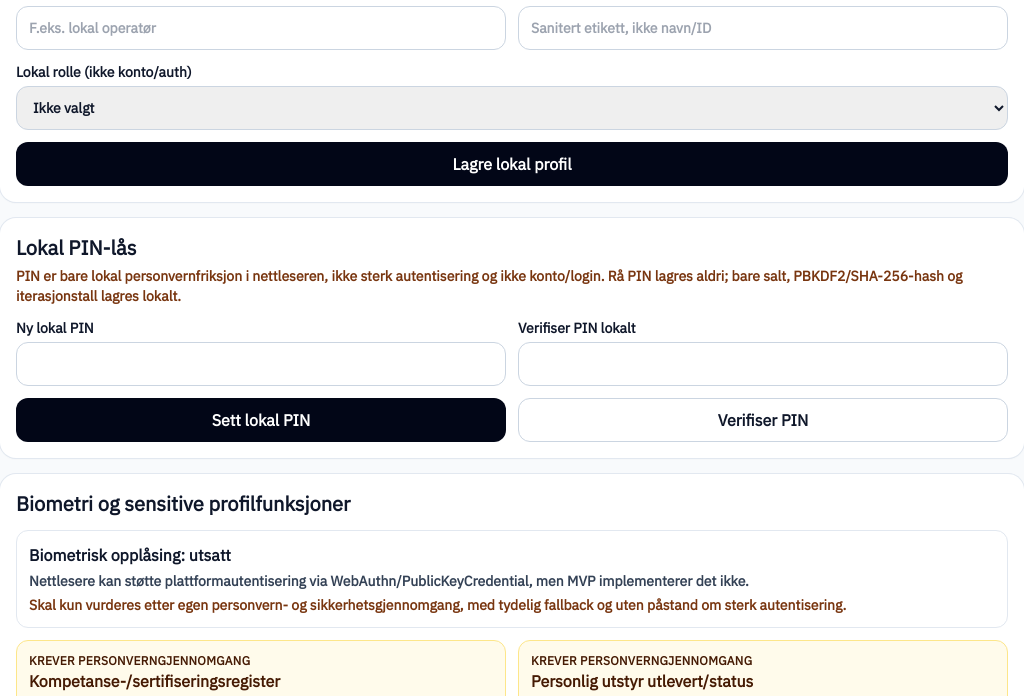
sets and verifies local PIN without storing raw PIN
This screenshot has width=1024, height=696.
(page scrolled)
In the password field labelled "Ny lokal PIN": {"x": 261, "y": 364} [16,342,506,386], type "1234"
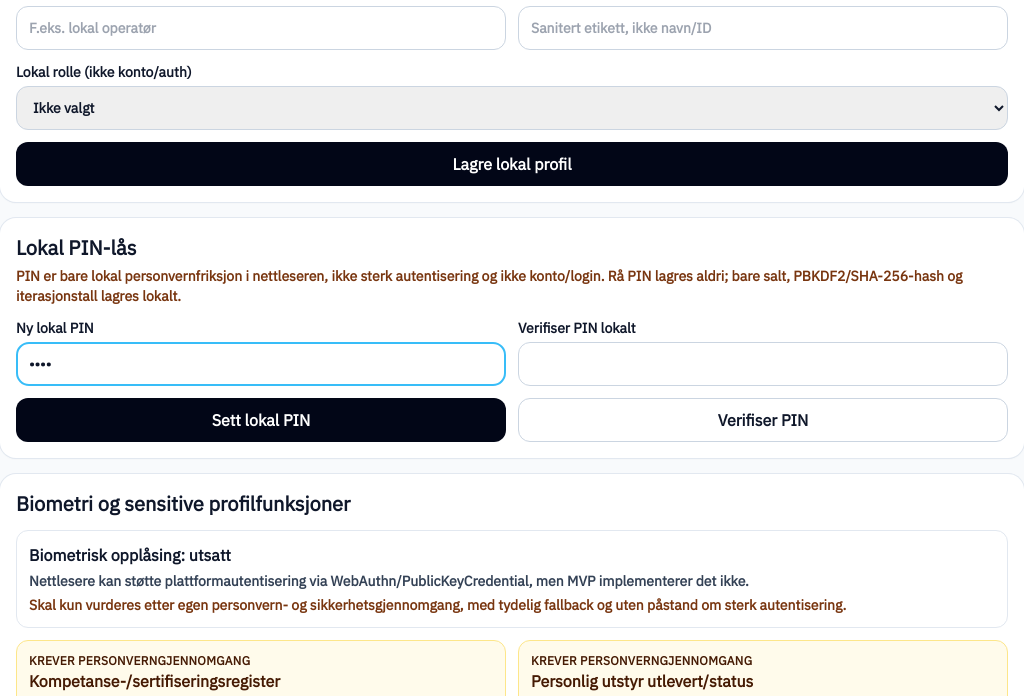
Click the button "Sett lokal PIN": {"x": 261, "y": 420} [16,398,506,442]
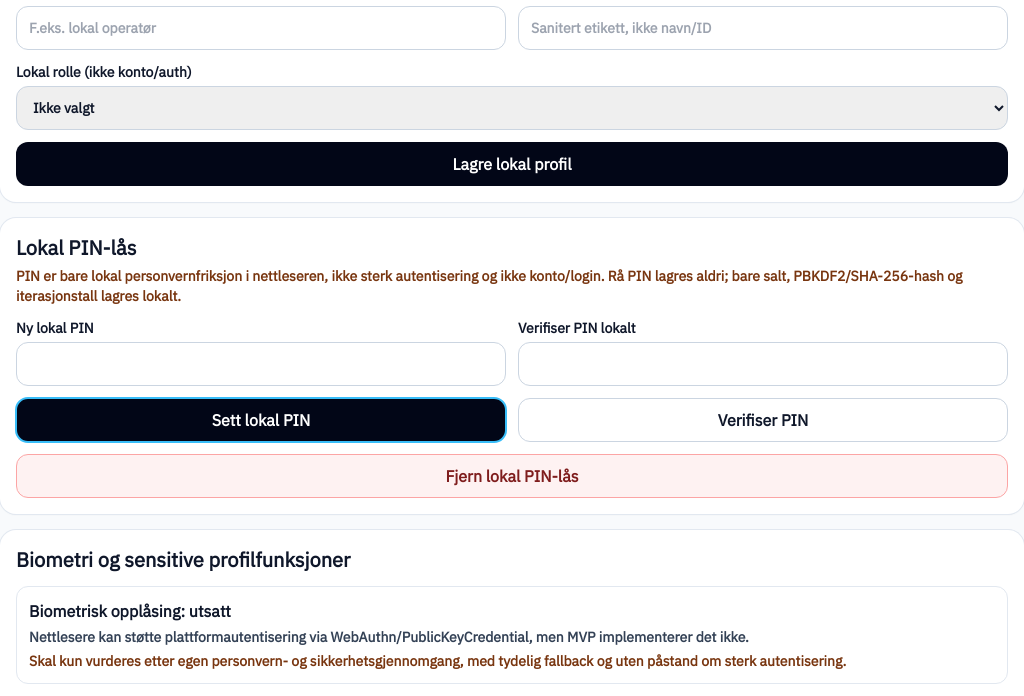
In the password field labelled "Verifiser PIN lokalt": {"x": 763, "y": 364} [518,342,1008,386], type "1234"
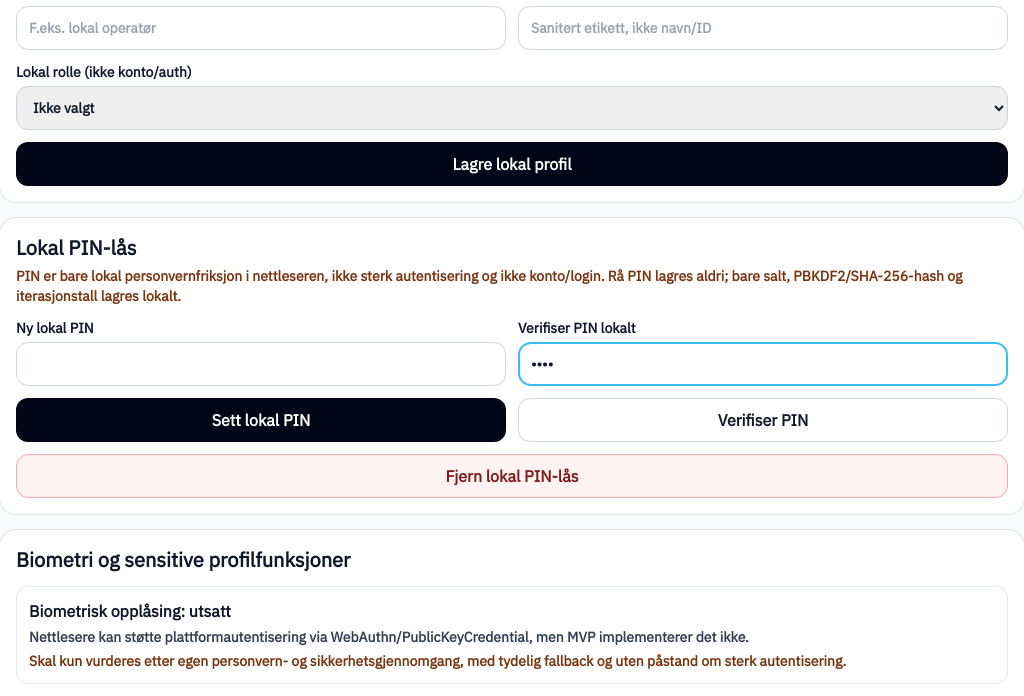
Click the button "Verifiser PIN": {"x": 763, "y": 420} [518,398,1008,442]
(page scrolled)
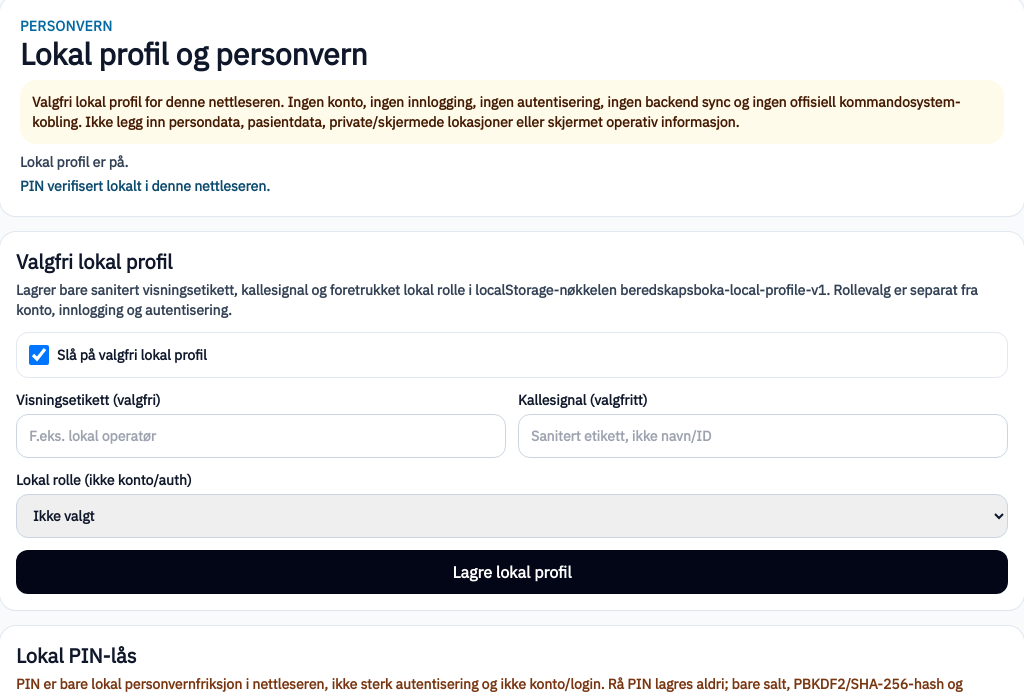
Expected: the text with test id "local-profile-message" shows "PIN verifisert lokalt", [20,177,270,195]
